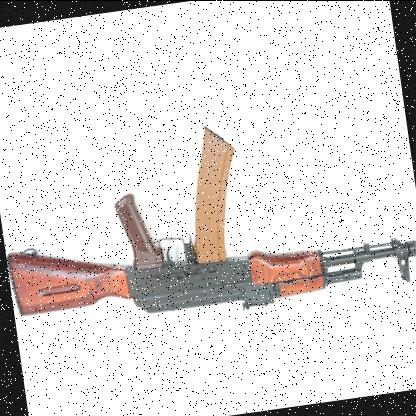rifle: (0, 108, 416, 367)
